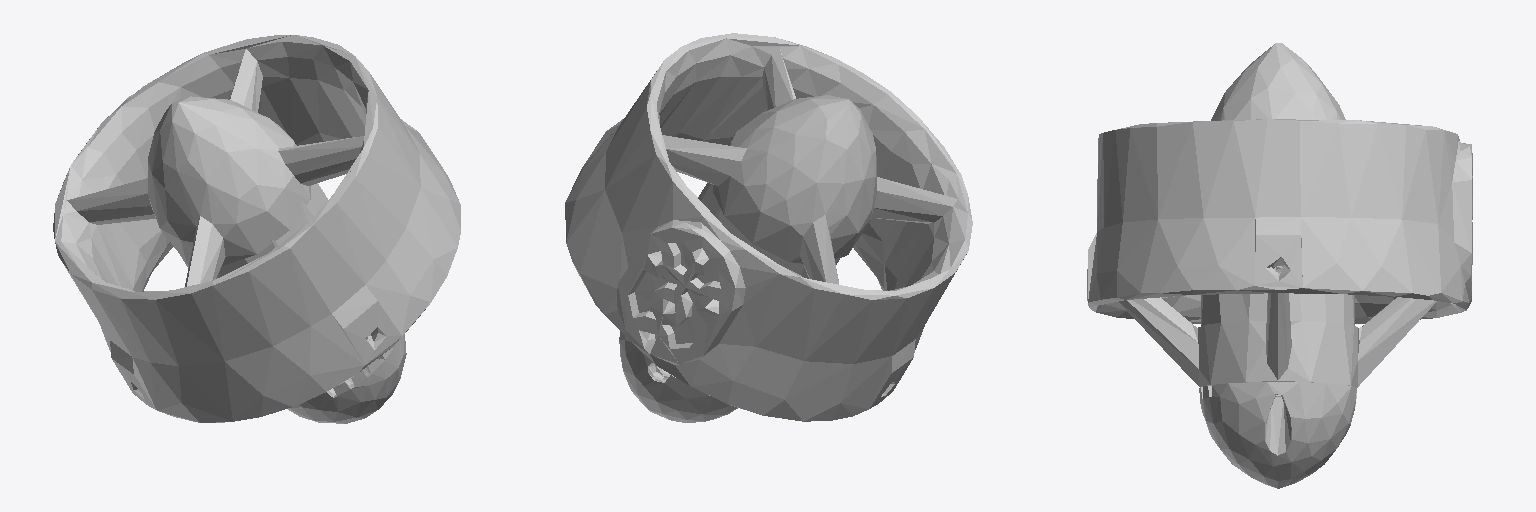
Rendered from duct_left_front.obj.
3 renders of one model, left to right at view 1: azimuth 30°, elevation 25°; view 2: azimuth 150°, elevation 25°; view 3: azimuth 270°, elevation 25°, orthographic.
Parts seen in each view (by area): view 1: duct_left_front; view 2: duct_left_front; view 3: duct_left_front.
Part boxes in pixels (left/top/right/bottom): duct_left_front: left=53, top=35, right=460, bottom=423; duct_left_front: left=565, top=33, right=972, bottom=422; duct_left_front: left=1087, top=43, right=1472, bottom=488.
Bounding box in the file's own units: 0.1026 × 0.1014 × 0.0973.